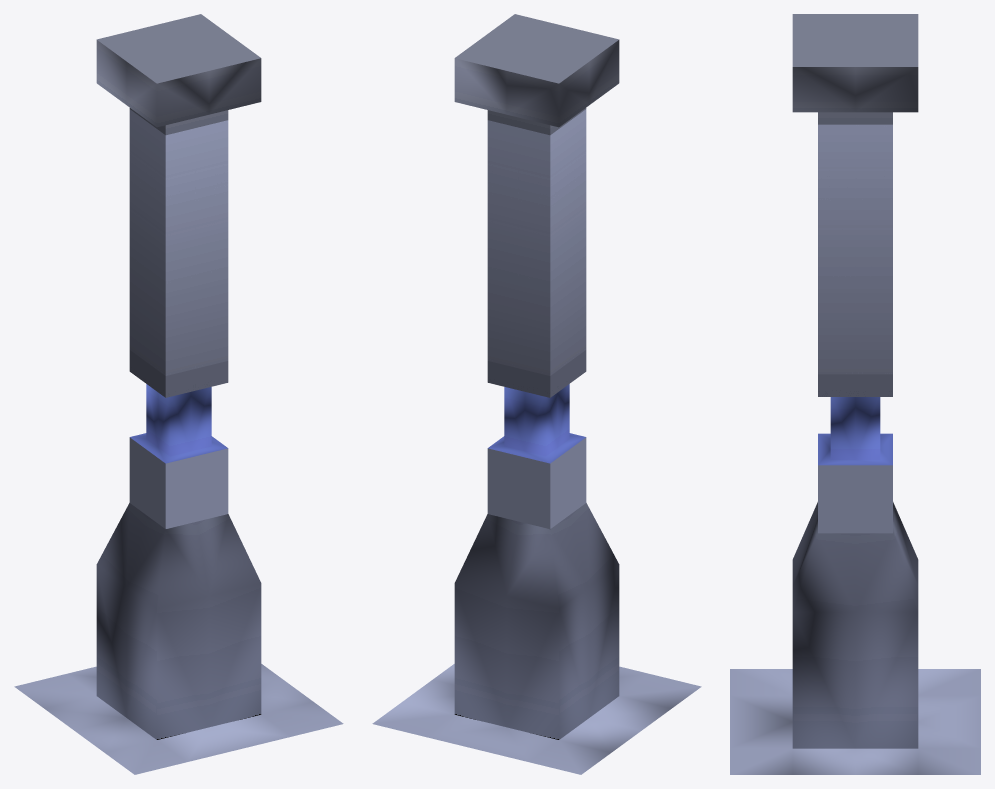
The model's file is wall-pillar.glb.
3 views of the same model, side by side, from view 1: azimuth 30°, elevation 25°; view 2: azimuth 150°, elevation 25°; view 3: azimuth 270°, elevation 25° (orthographic). The views are drawn at different scales.
Visible parts, largest first — view 1: wall-pillar; view 2: wall-pillar; view 3: wall-pillar.
Part boxes in pixels (bbox=[...]): wall-pillar: bbox=[14, 14, 343, 774]; wall-pillar: bbox=[372, 14, 701, 774]; wall-pillar: bbox=[730, 14, 980, 774].
Size of the model in its own units: 1 by 3 by 1.
2 materials, 2 textured.
